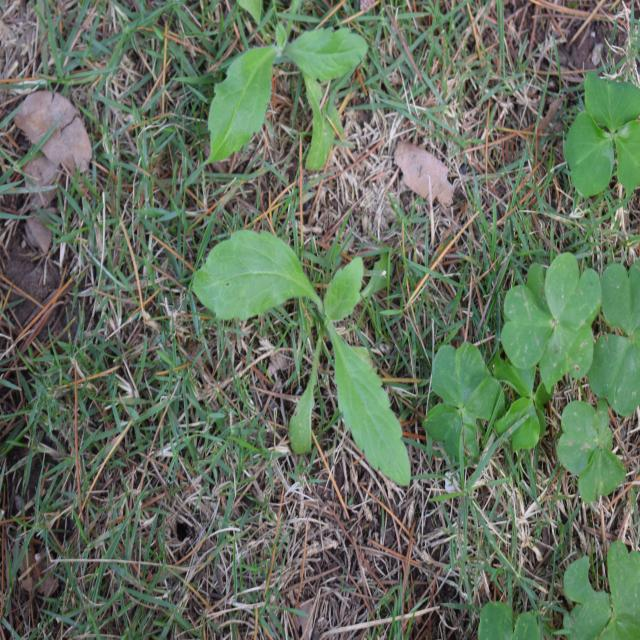horseweed: (192, 217, 419, 494), (205, 8, 375, 180)
